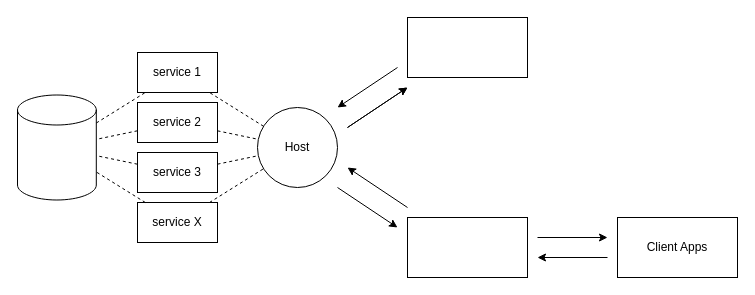
This 755x295 diagram has some shape labels left out. The box of each missing label's shape, as (x1, y1, x2, y2) in pixels:
API: (406, 216, 528, 278)
Background Service: (406, 16, 528, 78)
Database: (16, 94, 96, 200)
